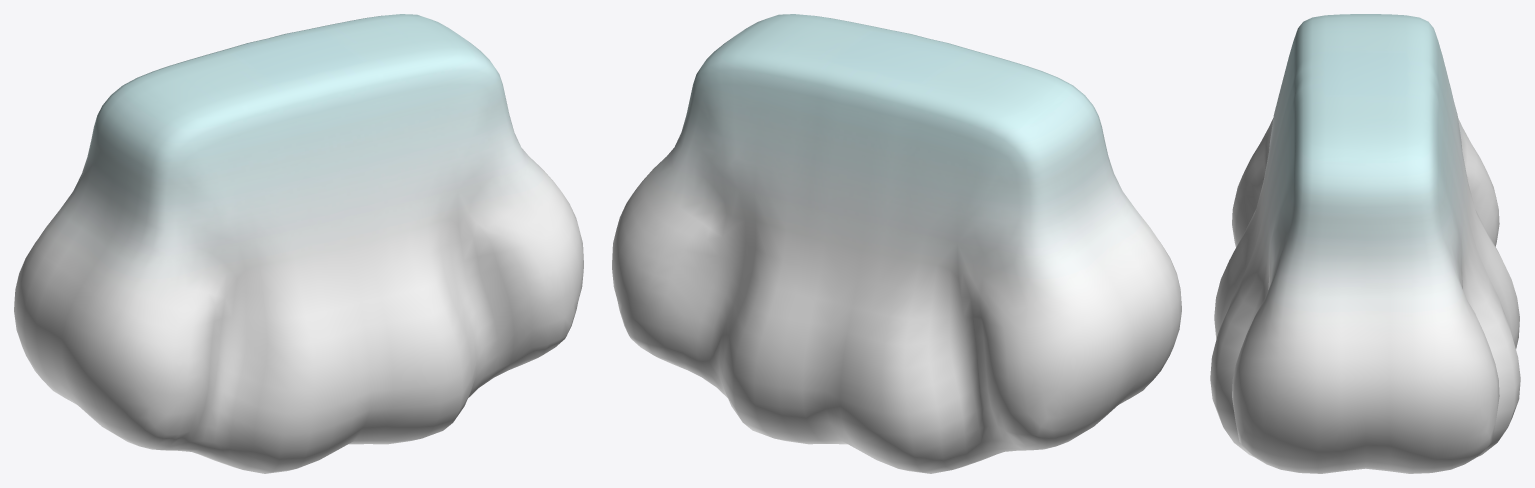
The model's file is x_yunbao2_01.fbx.
3 renders of one model, left to right at view 1: azimuth 30°, elevation 25°; view 2: azimuth 150°, elevation 25°; view 3: azimuth 270°, elevation 25°, orthographic. The views are drawn at different scales.
Visible parts, largest first — view 1: Line0034; view 2: Line0034; view 3: Line0034.
Part boxes in pixels (x1,y1,x2,y2): Line0034: (14,14,583,473); Line0034: (612,14,1181,473); Line0034: (1210,14,1520,473).
Bounding box in the file's own units: 66.62 × 46.83 × 36.81.
1 material, 1 textured.
